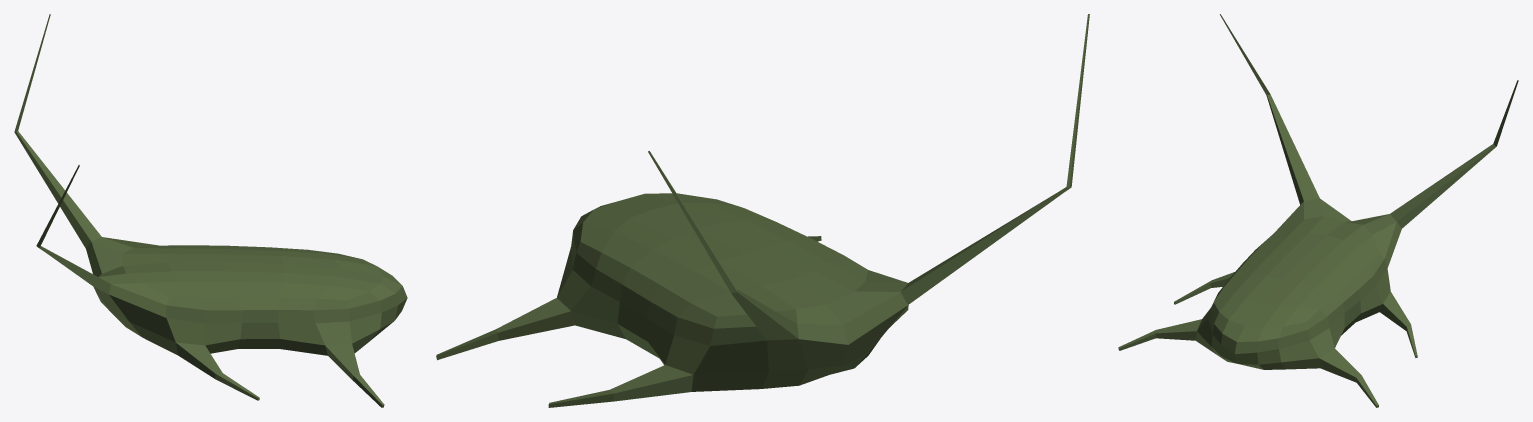
File: bicho.fbx
3 views of the same model, side by side, from view 1: azimuth 30°, elevation 25°; view 2: azimuth 150°, elevation 25°; view 3: azimuth 270°, elevation 25° (orthographic). The views are drawn at different scales.
Parts seen in each view (by area): view 1: Cube; view 2: Cube; view 3: Cube.
Boxes of the visible parts, left/top/right/bottom form: Cube: left=14, top=14, right=407, bottom=407; Cube: left=436, top=14, right=1089, bottom=407; Cube: left=1118, top=14, right=1518, bottom=407.
Bounding box in the file's own units: 873 × 581 × 896.
